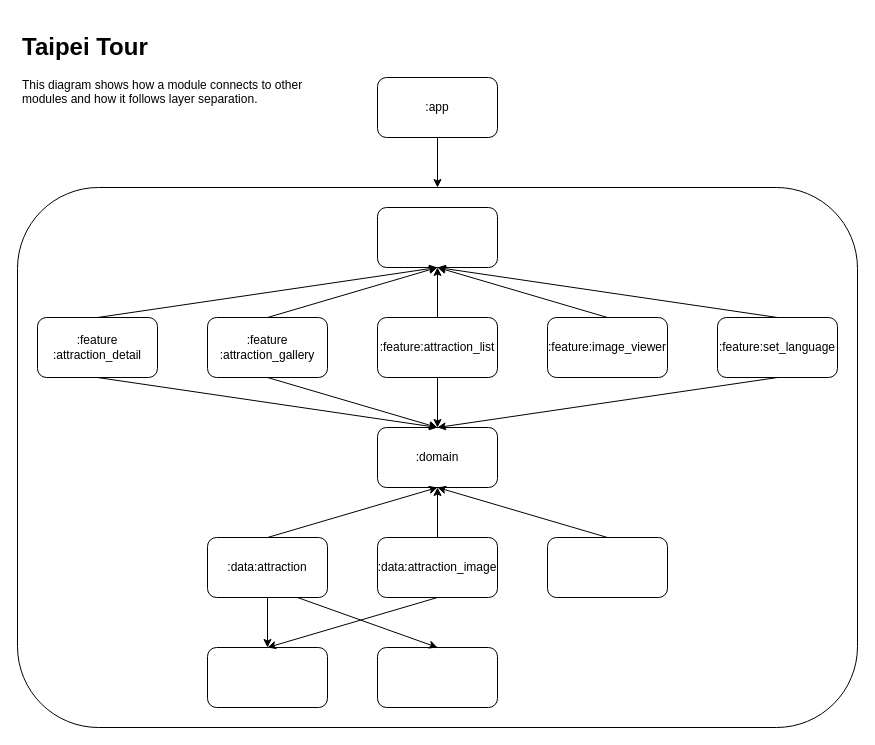
This 875x745 diagram has some shape labels left out. Each missing label, with the box of its shape:
:core:app_database: (206, 646, 328, 708)
:core:app_ui: (376, 206, 498, 268)
:core:travel_taipei_api: (376, 646, 498, 708)
:data:language: (546, 536, 668, 598)
